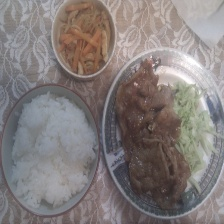rice: (7, 91, 97, 210)
